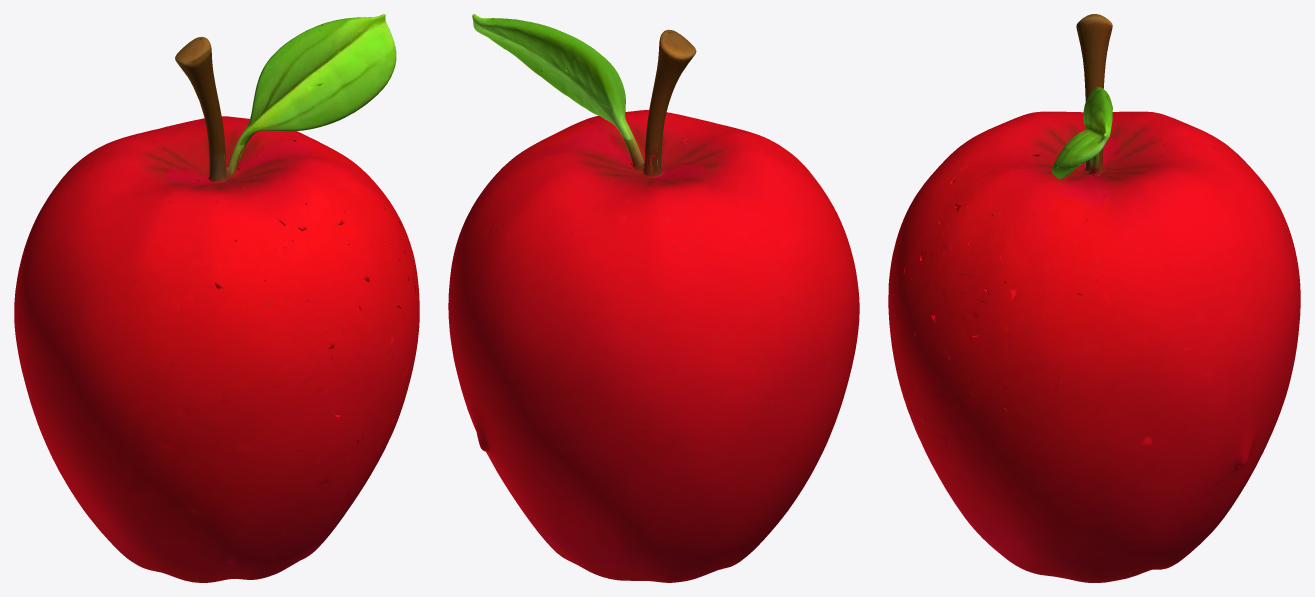
Rendered from apple.glb.
3 renders of one model, left to right at view 1: azimuth 30°, elevation 25°; view 2: azimuth 150°, elevation 25°; view 3: azimuth 270°, elevation 25°, orthographic. The views are drawn at different scales.
Parts seen in each view (by area): view 1: Mesh_0; view 2: Mesh_0; view 3: Mesh_0.
Part boxes in pixels (x1=…): Mesh_0: x1=14, y1=14, x2=419, y2=582; Mesh_0: x1=448, y1=14, x2=859, y2=582; Mesh_0: x1=888, y1=14, x2=1300, y2=582.
Size of the model in its own units: 0.0574 by 0.08 by 0.0574.
1 material, 1 textured.
